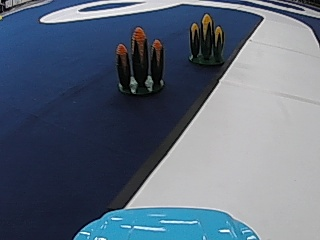corn: (114, 27, 167, 96), (186, 11, 227, 66)
